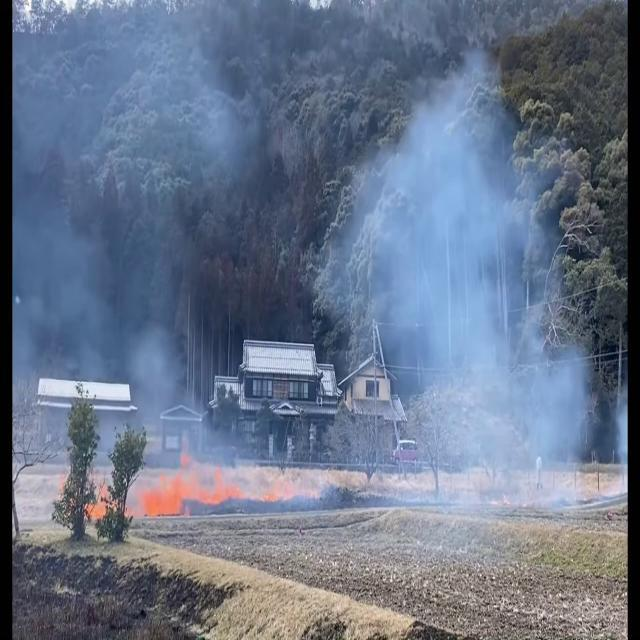Fire: (139, 450, 236, 522), (83, 471, 115, 528)
Smoke: (332, 29, 602, 564), (13, 5, 234, 482)
